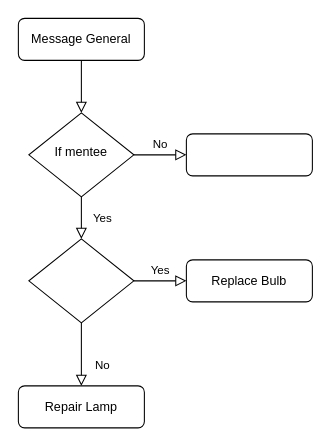
This 331x446 diagram has some shape labels left out. The shapes that lost their labels are listed below. From the top down, each one's centre as x and y in pixels, then its label:
(248,154): Plug in lamp
(81,280): If mentor
